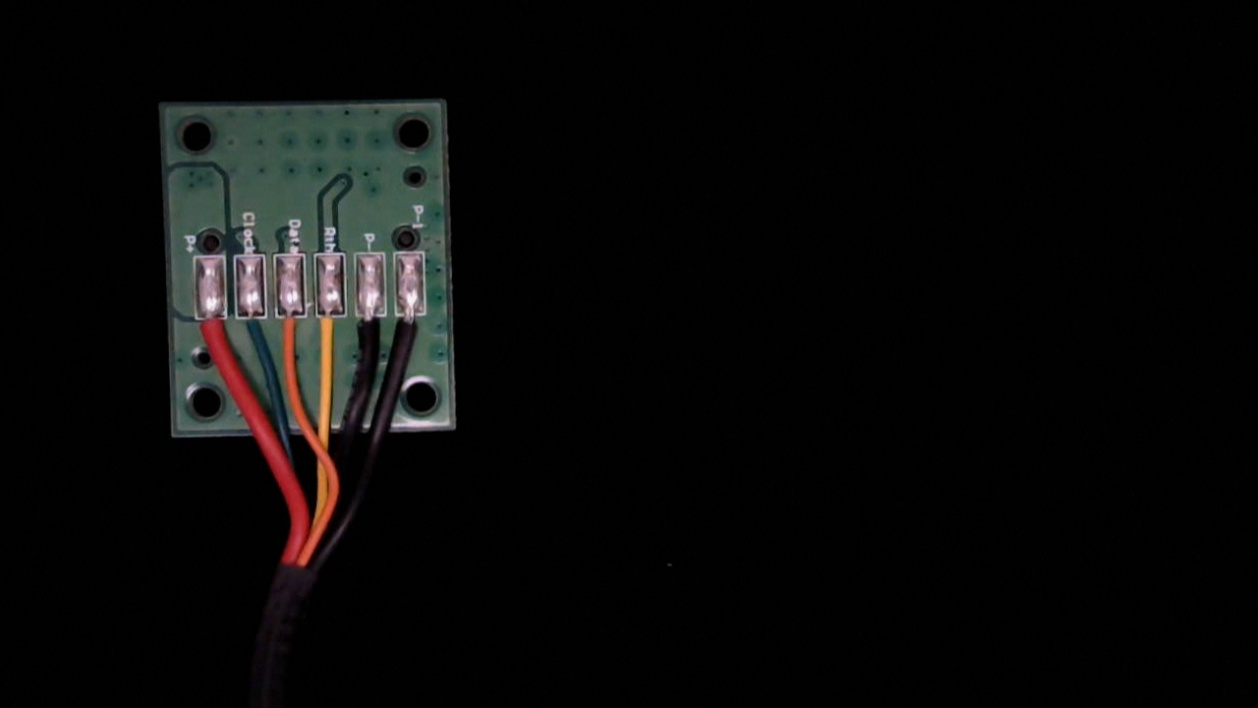Black: (357, 301, 387, 359)
Black1: (394, 301, 427, 358)
Green: (239, 303, 270, 355)
Orange: (278, 302, 305, 359)
Red: (194, 307, 230, 363)
Yellow: (316, 301, 345, 360)
